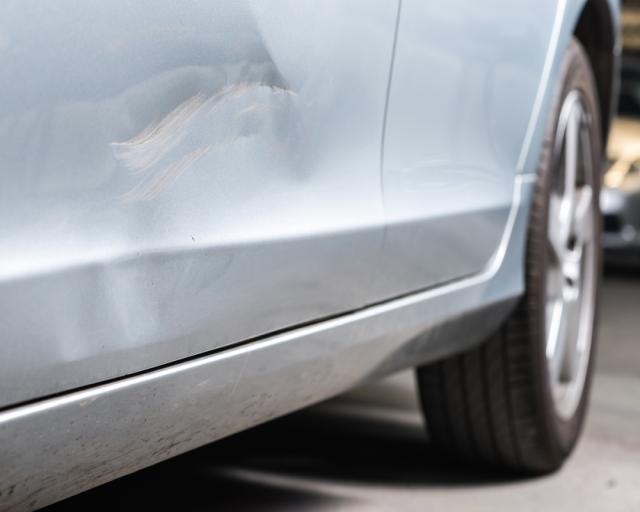dent: (51, 20, 380, 360)
